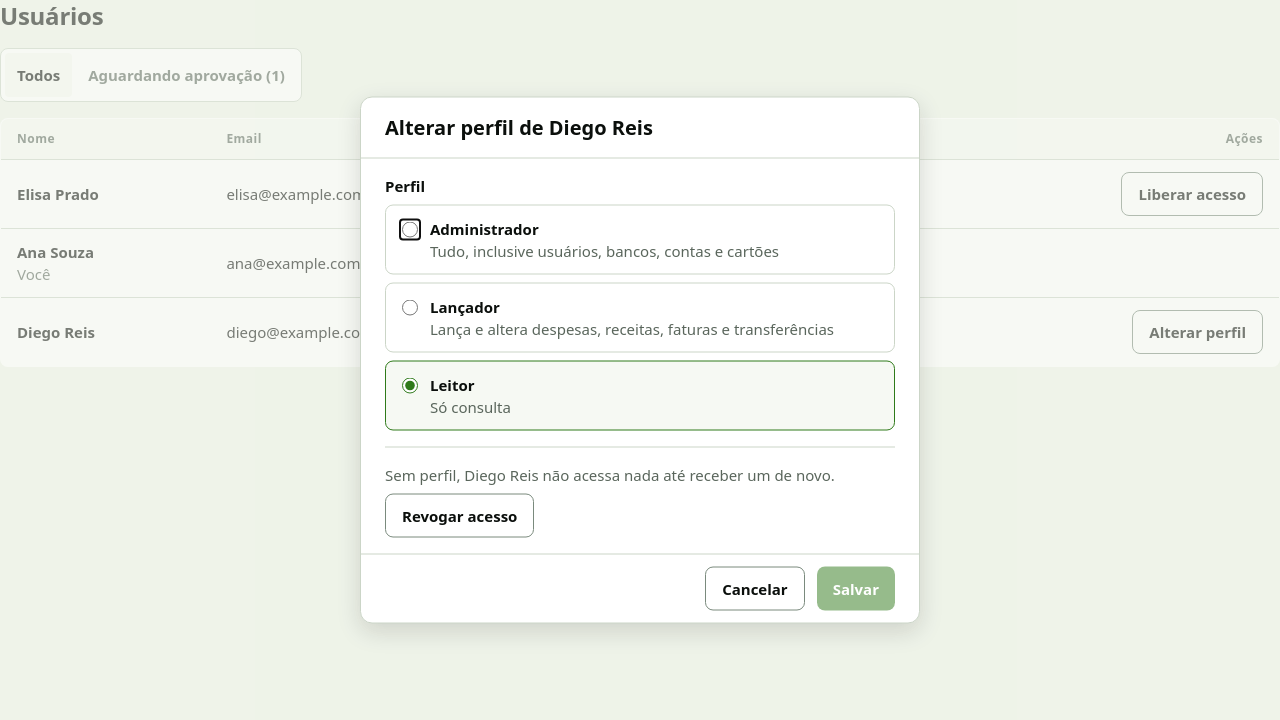
Test: ProfileDialog › keeps the confirmation open with the catalog message when revoking fails
Click the button "Revogar acesso": point(460, 516) [385,494,534,538]
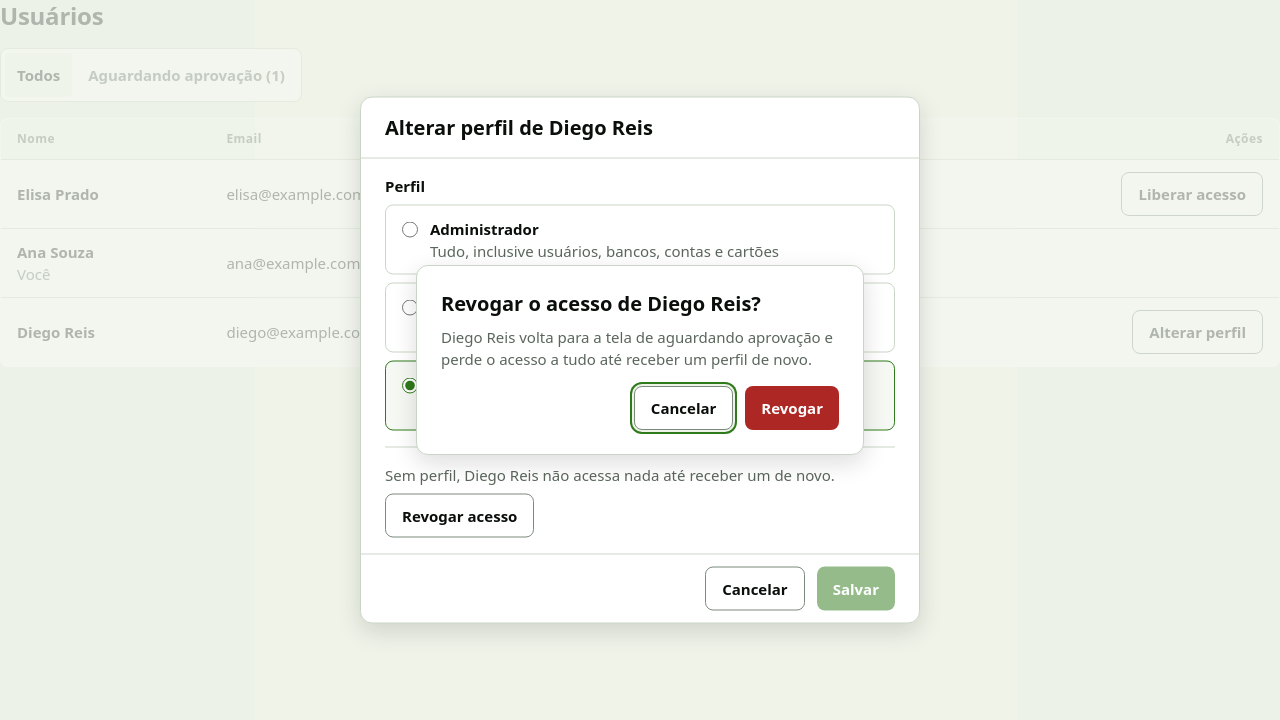
Click the button "Revogar": point(792, 408) [745,386,839,430]
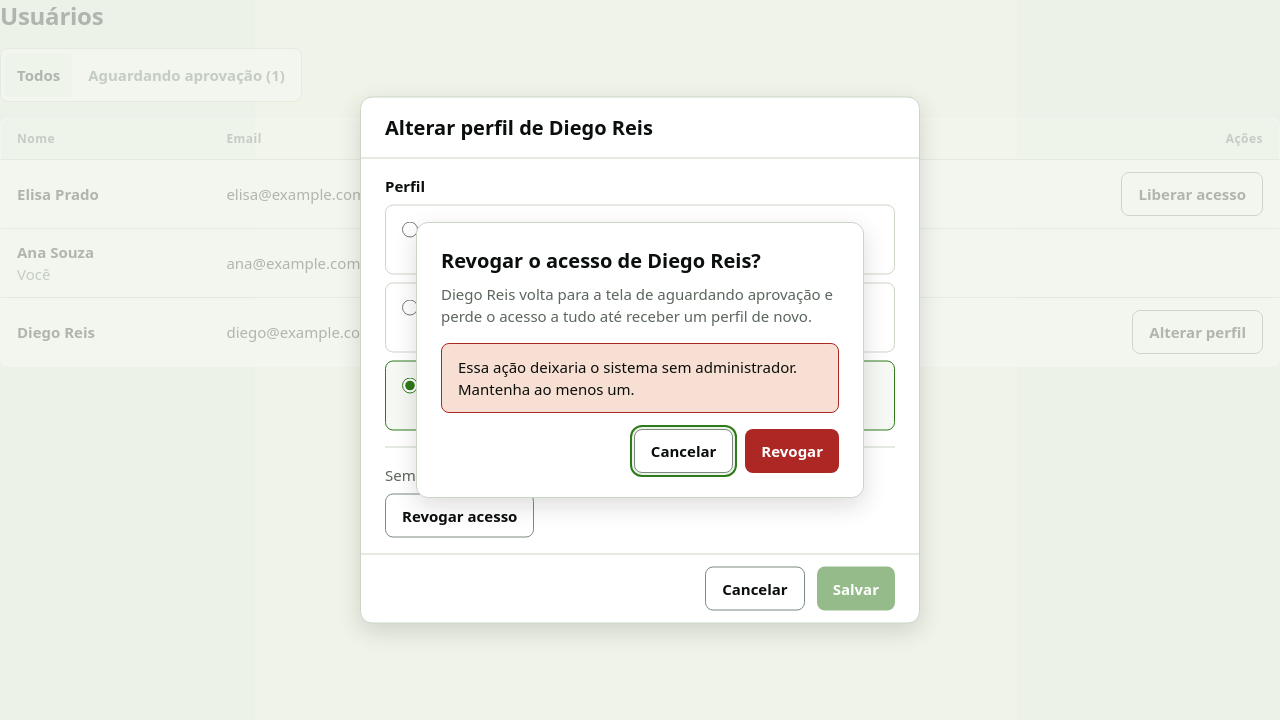
expect the text "Leitor" is shown: met, box [541,298,827,366]
expect the message reads "Essa ação deixaria o sistema sem administrador. Mantenha ao menos um.": met, box [458,357,797,399]
